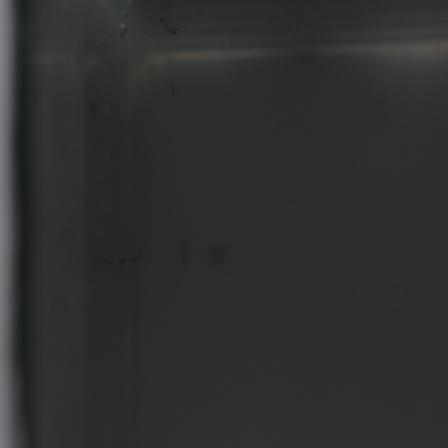Jentik-Nyamuk: (118, 240, 143, 270)
